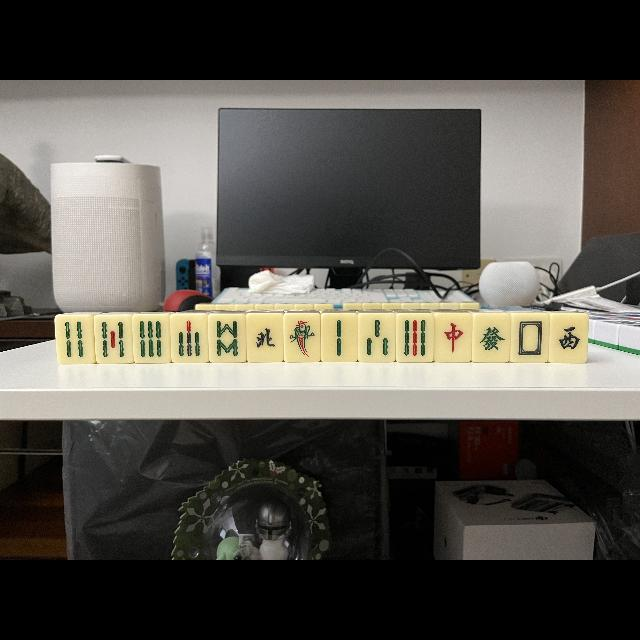b1: (285, 314, 321, 362)
b2: (322, 314, 358, 362)
b3: (358, 315, 396, 361)
b4: (55, 316, 95, 364)
b5: (94, 316, 134, 364)
b6: (132, 315, 172, 363)
b7: (172, 314, 208, 362)
b8: (209, 315, 247, 363)
b9: (396, 313, 434, 361)
dg: (473, 314, 511, 362)
dr: (435, 314, 473, 362)
dw: (510, 314, 548, 362)
wn: (248, 314, 284, 362)
ww: (548, 315, 588, 363)
